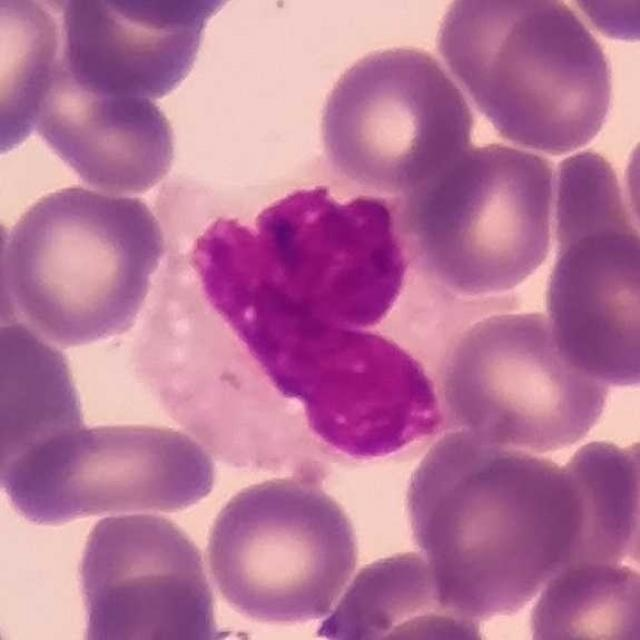Monocyte: (139, 176, 460, 476)
RBC: (404, 434, 590, 612), (1, 179, 168, 346), (433, 304, 617, 453), (452, 2, 620, 156), (403, 138, 562, 297), (200, 473, 363, 628), (312, 39, 476, 193), (2, 414, 224, 527), (30, 67, 183, 197), (72, 504, 220, 636), (540, 225, 640, 387), (54, 0, 213, 101), (545, 143, 638, 300), (310, 562, 491, 640), (0, 317, 83, 476), (562, 429, 634, 589), (0, 0, 66, 157), (75, 573, 222, 640), (523, 557, 640, 640), (348, 609, 506, 640), (86, 0, 249, 28), (560, 0, 640, 46), (619, 112, 640, 264), (0, 187, 18, 348)
